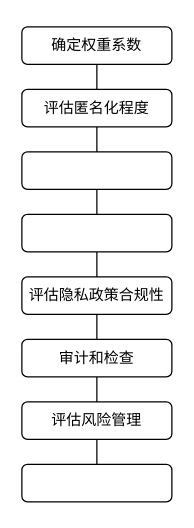
Image size: 194x528. Some labels were removed from this diagram. The shapes that lost their labels are listed below. From the top down, each one's centre as x and y in pixels, then its label:
point 96,170: 评估访问控制
point 96,232: 评估加密保护
point 96,482: 分析和改进
